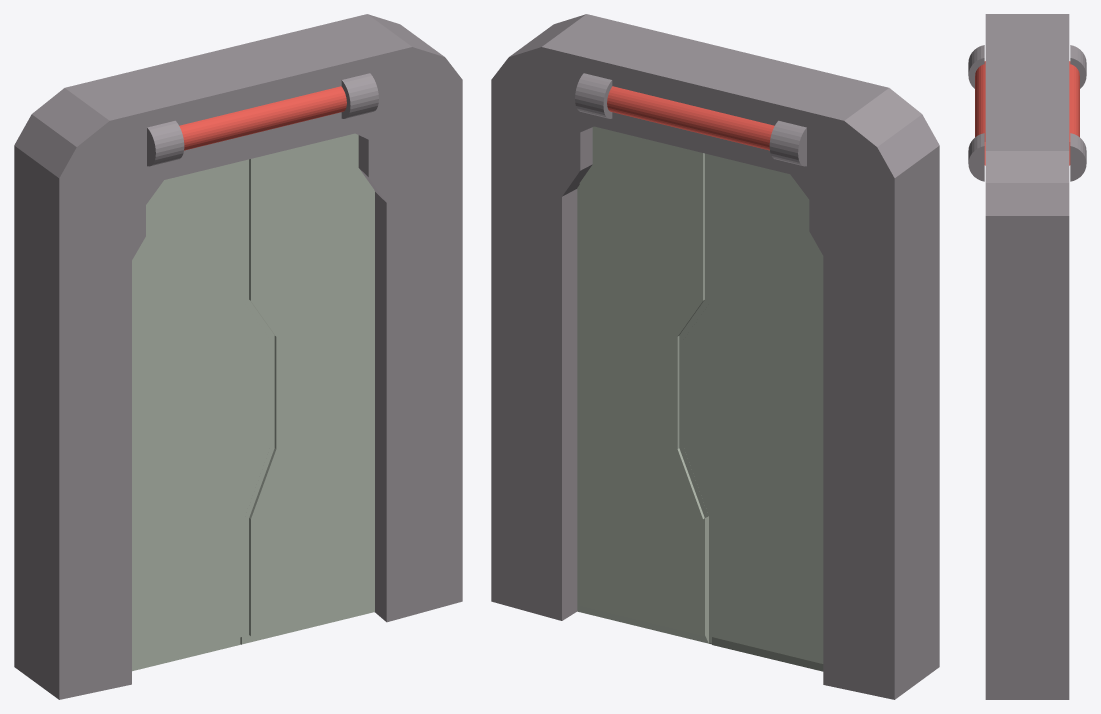
Rendered from Door 1.fbx.
3 renders of one model, left to right at view 1: azimuth 30°, elevation 25°; view 2: azimuth 150°, elevation 25°; view 3: azimuth 270°, elevation 25°, orthographic. The views are drawn at different scales.
Visible parts, largest first — view 1: Frame, DoorR, DoorL, Light.001; view 2: Frame, DoorR, DoorL, Light.001; view 3: Frame, Light.001.
Boxes of the visible parts, left/top/right/bottom form: Frame: left=14, top=14, right=462, bottom=699; DoorR: left=245, top=133, right=374, bottom=643; DoorL: left=132, top=160, right=270, bottom=671; Light.001: left=179, top=86, right=346, bottom=150; Frame: left=491, top=14, right=939, bottom=699; DoorR: left=577, top=126, right=708, bottom=643; DoorL: left=683, top=154, right=823, bottom=671; Light.001: left=607, top=86, right=774, bottom=150; Frame: left=968, top=14, right=1086, bottom=699; Light.001: left=975, top=61, right=1079, bottom=165.
Bounding box in the file's own units: 321 × 433 × 87.81.
